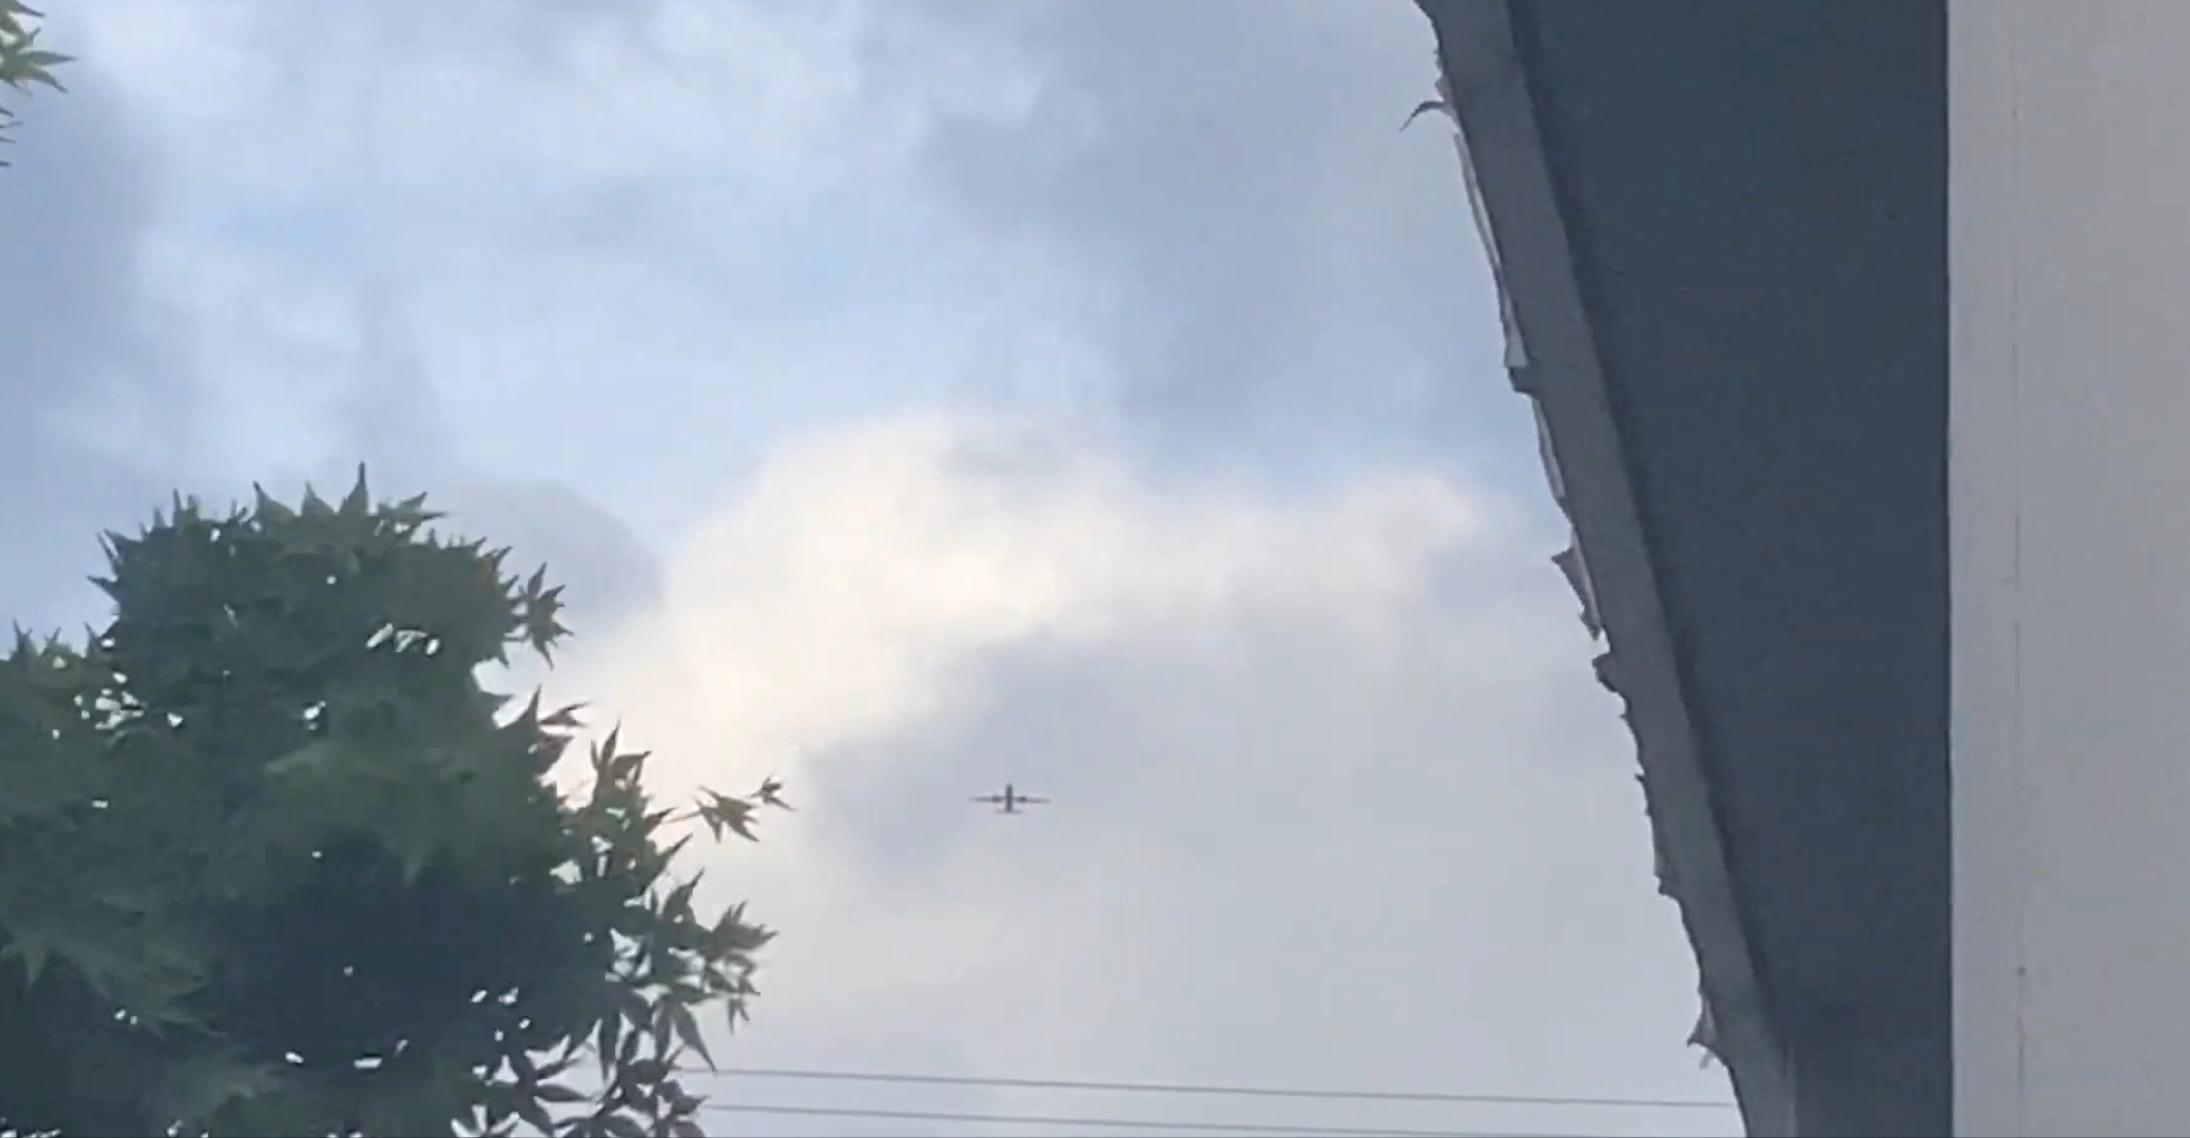Plane: (940, 772, 1081, 833)
